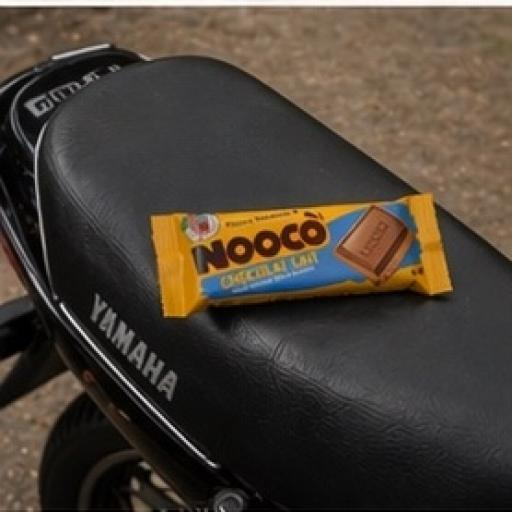biscuit-detection: (138, 184, 479, 333)
